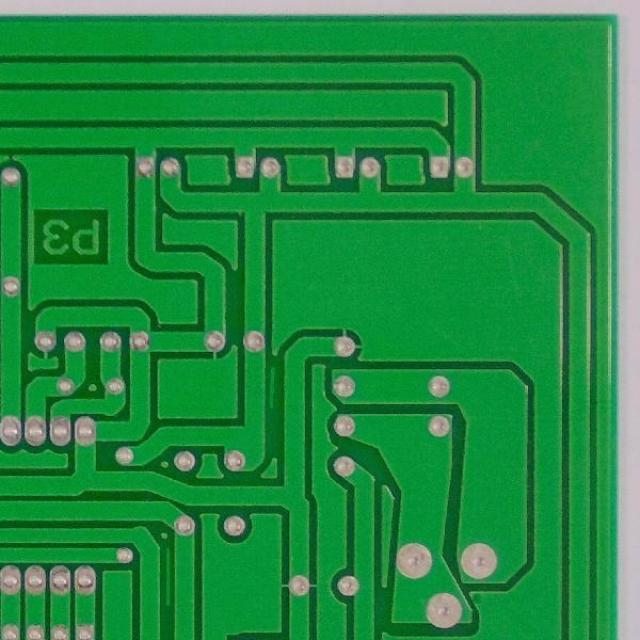Spurious_Cooper: (161, 544, 174, 613), (266, 360, 282, 410)
